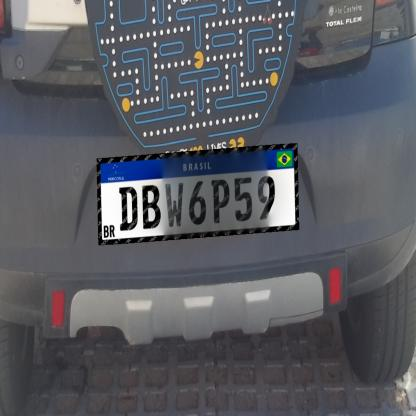PlacaM: (97, 144, 299, 245)
